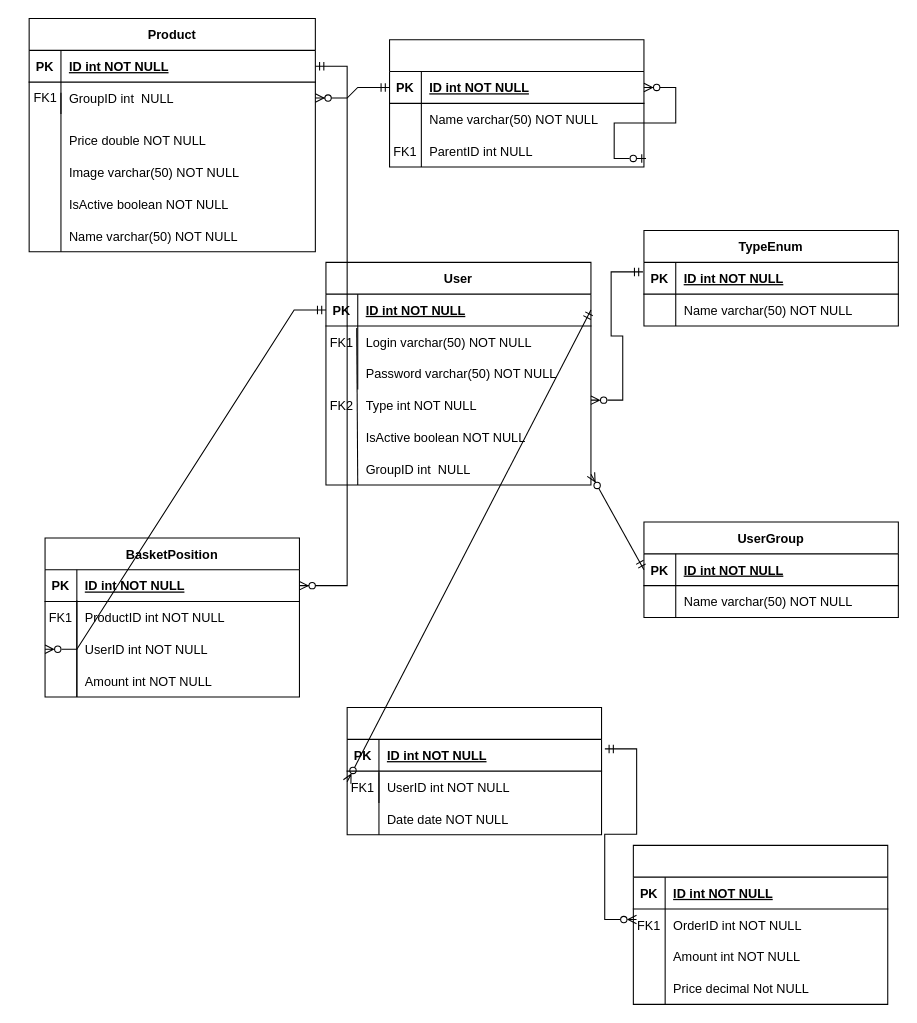
Image size: 917x1023. Some labels were removed from this diagram. The box of each missing label's shape, as (x1, y1, x2, y2) in pixels:
Order: (346, 706, 602, 835)
OrderPosition: (632, 844, 888, 1004)
ProductGroup: (388, 39, 644, 167)
